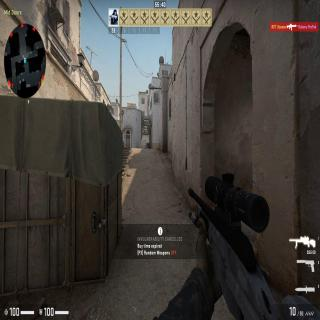T-Body: (148, 142, 151, 148)
T-Head: (149, 142, 150, 144)
